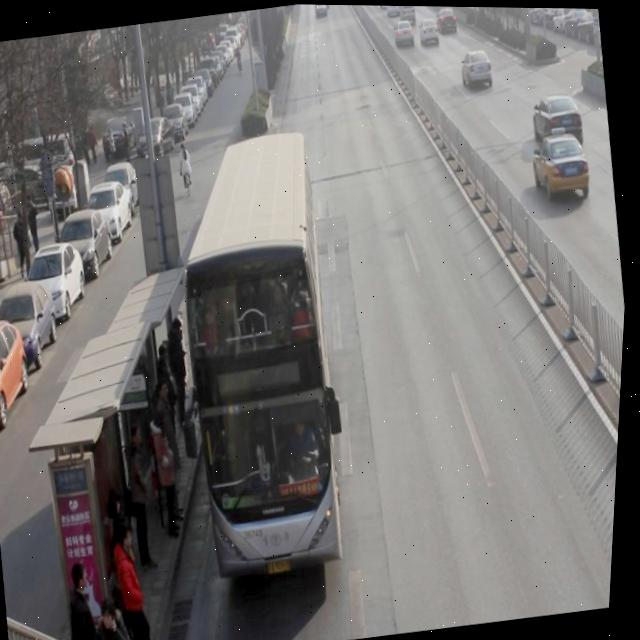car: (529, 121, 598, 205), (530, 87, 589, 151), (459, 45, 498, 92), (417, 14, 443, 46), (392, 15, 417, 48), (435, 5, 461, 36), (385, 4, 402, 17), (313, 4, 328, 18)
truck: (396, 5, 419, 26)
van: (157, 129, 368, 574)
